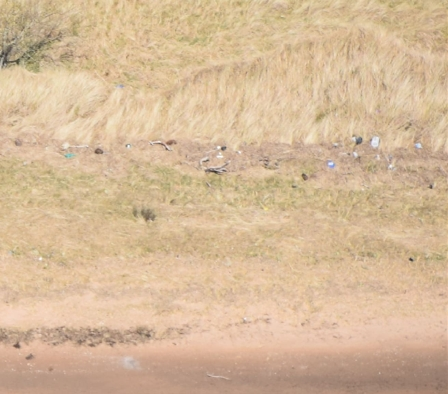scattered_barrel: (258, 125, 443, 200), (50, 117, 252, 185)
